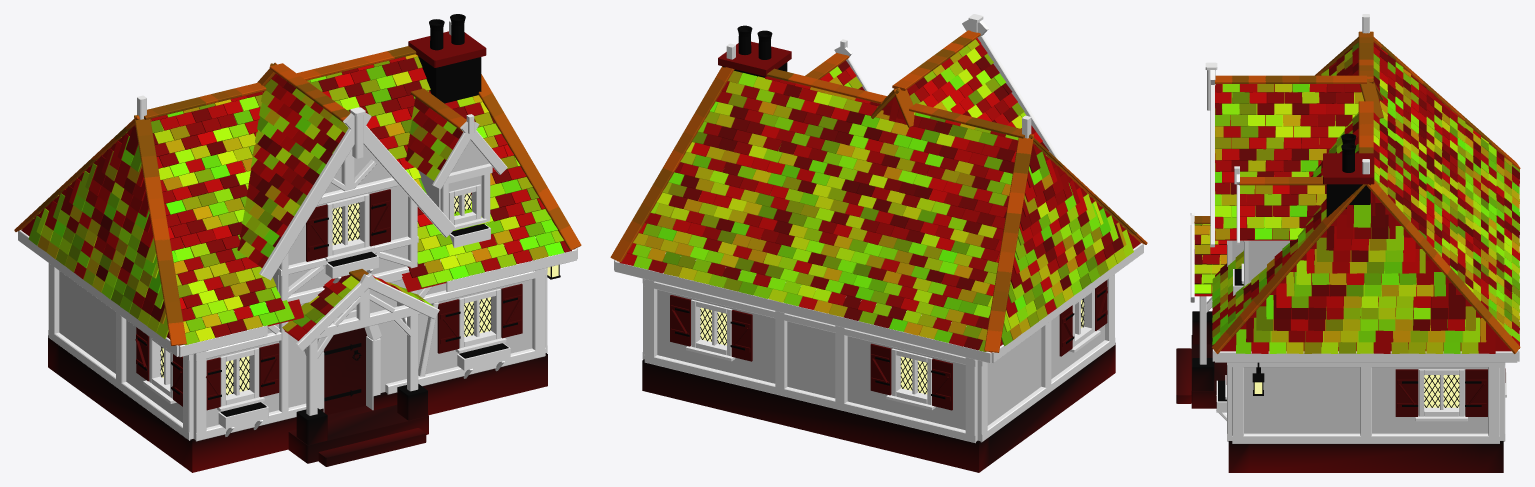
File: SilverbrookCottage3.fbx
3 renders of one model, left to right at view 1: azimuth 30°, elevation 25°; view 2: azimuth 150°, elevation 25°; view 3: azimuth 270°, elevation 25°, orthographic. The views are drawn at different scales.
Parts seen in each view (by area): view 1: SM_SBCottage3_Roof, SM_SBCottage3_Timber, SM_SBCottage3_Masonry, SM_SBCottage3_Plaster, SM_SBCottage3_Details; view 2: SM_SBCottage3_Roof, SM_SBCottage3_Timber, SM_SBCottage3_Masonry, SM_SBCottage3_Plaster, SM_SBCottage3_Details; view 3: SM_SBCottage3_Roof, SM_SBCottage3_Timber, SM_SBCottage3_Masonry, SM_SBCottage3_Plaster, SM_SBCottage3_Details.
Boxes of the visible parts, bbox=[...] form: SM_SBCottage3_Roof: bbox=[14, 46, 581, 345]; SM_SBCottage3_Timber: bbox=[18, 20, 577, 441]; SM_SBCottage3_Masonry: bbox=[48, 31, 547, 472]; SM_SBCottage3_Plaster: bbox=[59, 140, 532, 427]; SM_SBCottage3_Details: bbox=[135, 14, 560, 416]; SM_SBCottage3_Roof: bbox=[610, 30, 1147, 352]; SM_SBCottage3_Timber: bbox=[614, 14, 1143, 443]; SM_SBCottage3_Masonry: bbox=[642, 41, 1115, 472]; SM_SBCottage3_Plaster: bbox=[657, 289, 1104, 430]; SM_SBCottage3_Details: bbox=[670, 25, 1107, 410]; SM_SBCottage3_Roof: bbox=[1194, 31, 1520, 353]; SM_SBCottage3_Timber: bbox=[1190, 14, 1519, 443]; SM_SBCottage3_Masonry: bbox=[1176, 153, 1503, 472]; SM_SBCottage3_Plaster: bbox=[1232, 228, 1488, 433]; SM_SBCottage3_Details: bbox=[1218, 133, 1505, 416].
Size of the model in its own units: 775 by 598 by 591.
